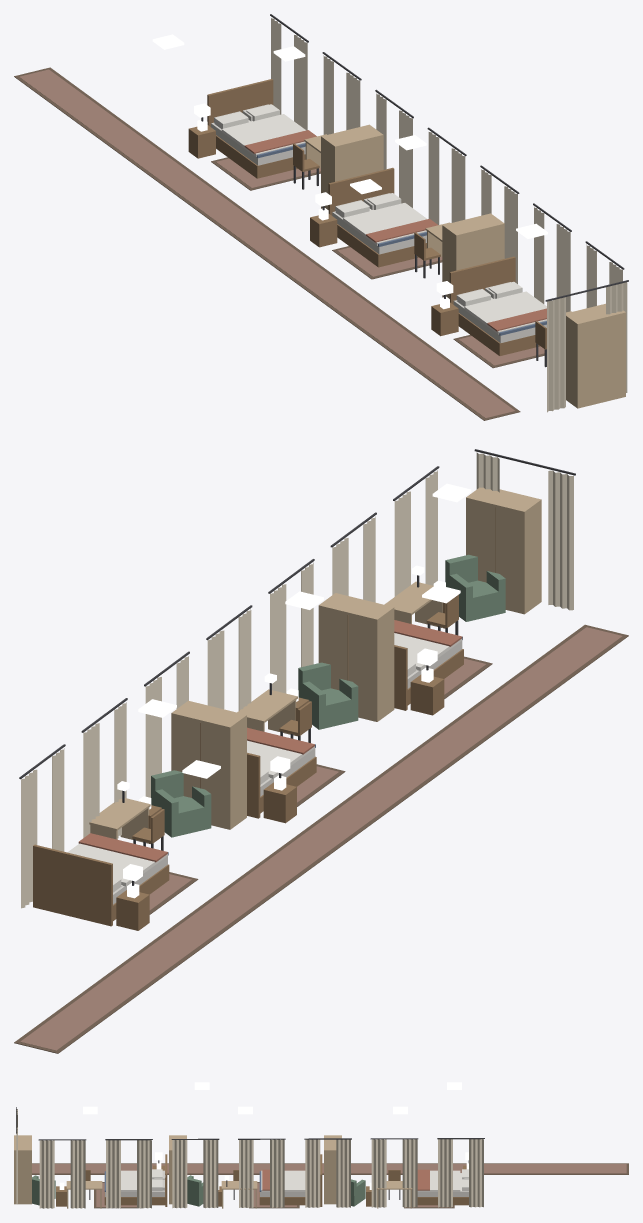
File: fine-s2.glb
3 renders of one model, top to bottom at view 1: azimuth 30°, elevation 25°; view 2: azimuth 150°, elevation 25°; view 3: azimuth 270°, elevation 25°, orthographic. The views are drawn at different scales.
Visible parts, largest first — view 1: soft-s2, dresser.005, bed-frame.003, bed-frame.005, bed-frame.004, dresser.003, dresser.004, nightstand.004, nightstand.003, nightstand.005, cafe-chair.003, cafe-chair.004; view 2: soft-s2, dresser.004, dresser.005, dresser.003, bed-frame.003, lounge-chair.003, lounge-chair.004, lounge-chair.005, writing-desk.003, writing-desk.004, bed-frame.004, bed-frame.005 (+4 smaller); view 3: soft-s2, dresser.005, dresser.003, bed-frame.005, bed-frame.004, bed-frame.003, lounge-chair.004, lounge-chair.003, dresser.004, writing-desk.004, writing-desk.005, writing-desk.003 (+2 smaller).
Part boxes in pixels (bbox=[...]): soft-s2: bbox=[14, 14, 628, 420]; dresser.005: bbox=[566, 303, 625, 408]; bed-frame.003: bbox=[207, 79, 305, 178]; bed-frame.005: bbox=[449, 256, 546, 355]; bed-frame.004: bbox=[328, 167, 426, 267]; dresser.003: bbox=[321, 124, 383, 209]; dresser.004: bbox=[442, 213, 504, 298]; nightstand.004: bbox=[310, 208, 337, 247]; nightstand.003: bbox=[188, 119, 215, 158]; nightstand.005: bbox=[431, 296, 458, 336]; cafe-chair.003: bbox=[293, 143, 319, 189]; cafe-chair.004: bbox=[414, 232, 440, 278]; soft-s2: bbox=[14, 449, 628, 1053]; dresser.004: bbox=[318, 593, 394, 721]; dresser.005: bbox=[466, 487, 541, 614]; dresser.003: bbox=[171, 700, 246, 829]; bed-frame.003: bbox=[33, 844, 169, 926]; lounge-chair.003: bbox=[151, 770, 211, 837]; lounge-chair.004: bbox=[298, 662, 358, 729]; lounge-chair.005: bbox=[445, 554, 505, 621]; writing-desk.003: bbox=[89, 781, 150, 843]; writing-desk.004: bbox=[237, 673, 297, 735]; bed-frame.004: bbox=[247, 744, 316, 818]; bed-frame.005: bbox=[394, 636, 463, 710]; soft-s2: bbox=[16, 1107, 628, 1208]; dresser.005: bbox=[14, 1135, 31, 1204]; dresser.003: bbox=[324, 1135, 341, 1204]; bed-frame.005: bbox=[104, 1154, 167, 1206]; bed-frame.004: bbox=[259, 1154, 322, 1206]; bed-frame.003: bbox=[417, 1173, 468, 1205]; lounge-chair.004: bbox=[187, 1175, 203, 1206]; lounge-chair.003: bbox=[351, 1179, 365, 1206]; dresser.004: bbox=[169, 1135, 186, 1204]; writing-desk.004: bbox=[221, 1175, 257, 1208]; writing-desk.005: bbox=[66, 1175, 102, 1208]; writing-desk.003: bbox=[376, 1181, 412, 1208].
Size of the model in its own units: 3.69 by 3.11 by 20.65.
